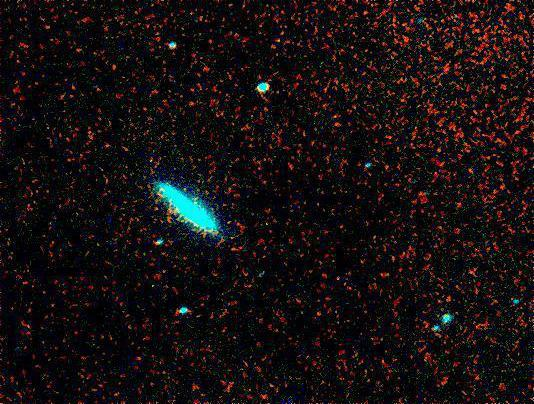star: (170, 172, 200, 202)
